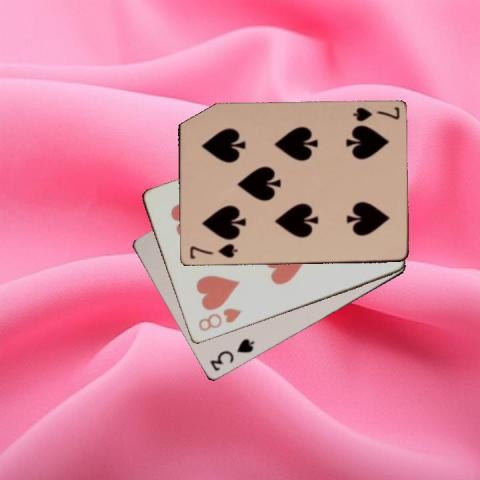3s: (207, 336, 255, 373)
7s: (186, 241, 238, 260), (350, 104, 401, 122)
8h: (195, 306, 243, 334)
